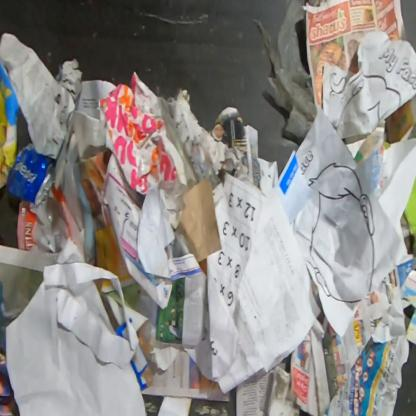cardboard: (403, 172, 415, 239)
metal: (8, 142, 54, 208)
soft_plastic: (254, 0, 318, 140), (16, 184, 85, 254)
